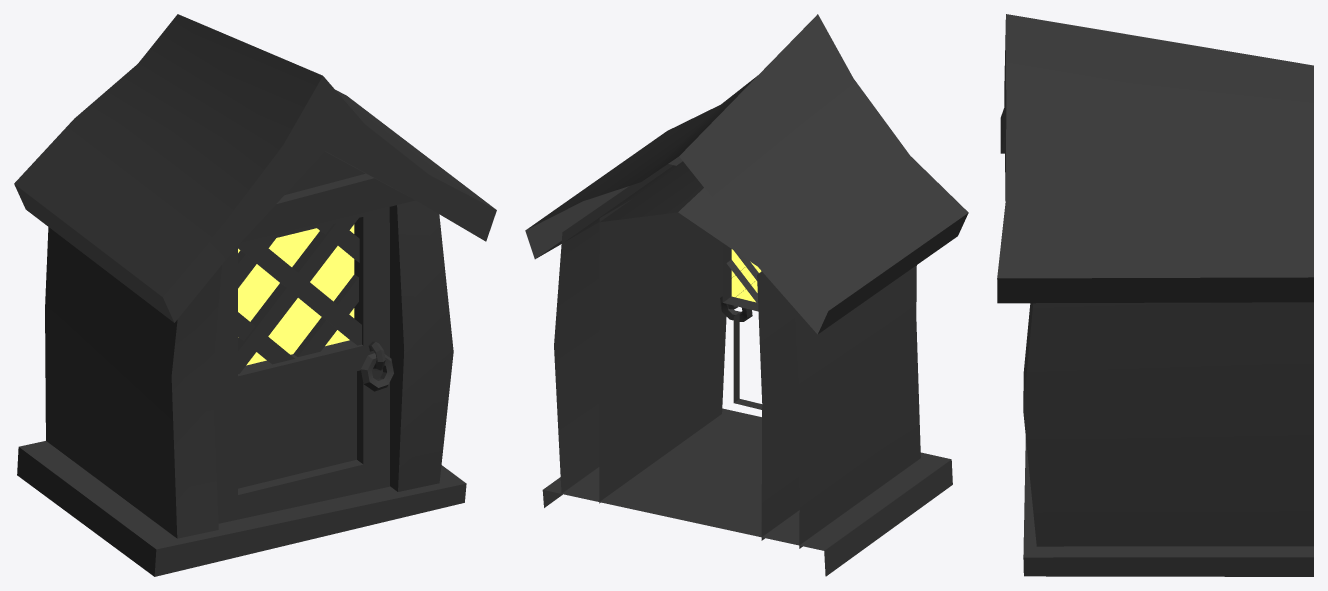
The model's file is SM_BLD_door_v02_01.FBX.
3 renders of one model, left to right at view 1: azimuth 30°, elevation 25°; view 2: azimuth 150°, elevation 25°; view 3: azimuth 270°, elevation 25°, orthographic. The views are drawn at different scales.
Parts seen in each view (by area): view 1: SM_BLD_door_v02_01; view 2: SM_BLD_door_v02_01; view 3: SM_BLD_door_v02_01.
Boxes of the visible parts, x1,y1,x2,y2 form: SM_BLD_door_v02_01: (14, 14, 496, 576); SM_BLD_door_v02_01: (525, 14, 968, 576); SM_BLD_door_v02_01: (997, 14, 1313, 576).
Size of the model in its own units: 245 by 194 by 329.
